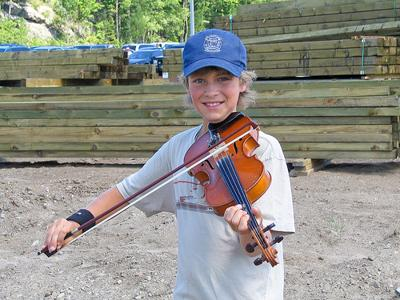person: (47, 30, 297, 300)
